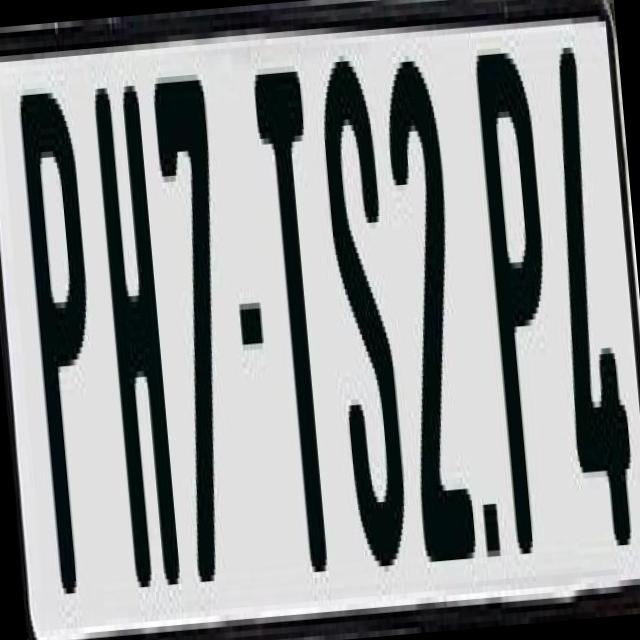2: (378, 53, 482, 592)
4: (536, 33, 638, 560)
7: (146, 62, 242, 571)
H: (88, 73, 180, 605)
P: (18, 90, 118, 617), (472, 44, 574, 548)
S: (317, 52, 417, 568)
T: (248, 59, 344, 585)
